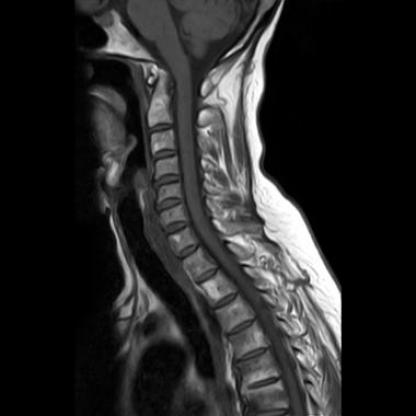Disc Bulgerotation: (153, 195, 187, 213), (160, 219, 191, 237), (152, 173, 182, 188)
